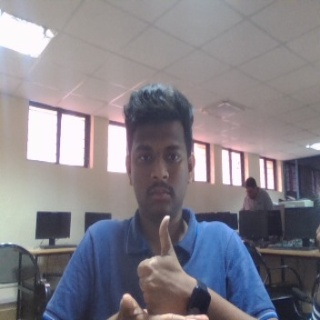Face: (122, 82, 195, 214)
Help: (114, 214, 210, 320)
